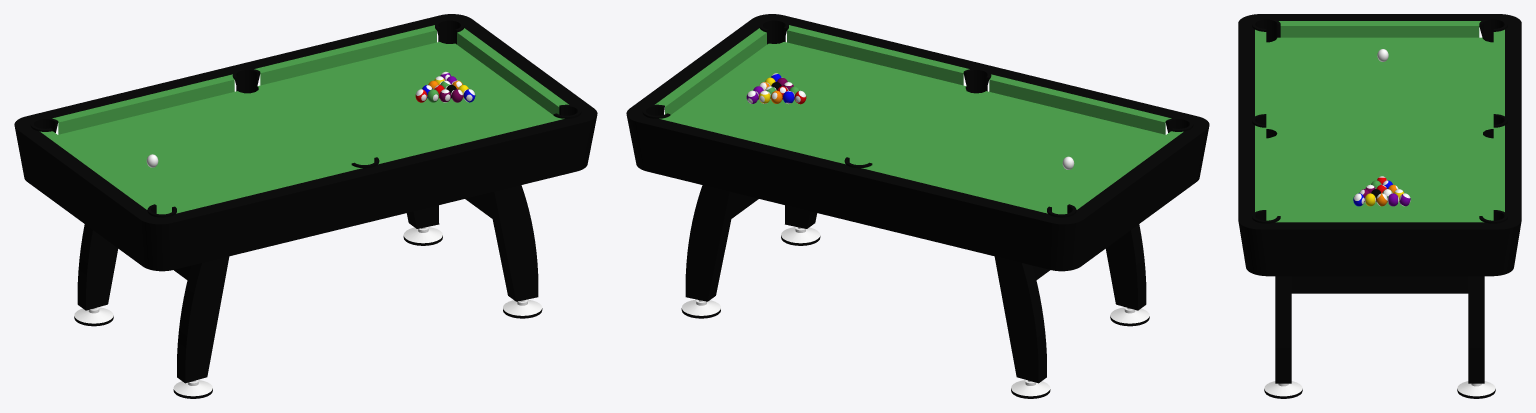
The model's file is pool-table-6ft-medium.glb.
The picture shows the model from 3 angles, left to right: view 1: azimuth 30°, elevation 25°; view 2: azimuth 150°, elevation 25°; view 3: azimuth 270°, elevation 25°; orthographic projection. The views are drawn at different scales.
Visible parts, largest first — view 1: Mesh45 Group1 Model, Mesh3 Group3 Group1 Model, Mesh7 Group5 Group1 Model, Mesh1 Group2 Group1 Model, Mesh18 patte2 Group1 Model, Mesh36 patte4 Group1 Model, Mesh27 patte3 Group1 Model, Mesh9 patte1 Group1 Model, Mesh5 Group4 Group1 Model; view 2: Mesh45 Group1 Model, Mesh1 Group2 Group1 Model, Mesh5 Group4 Group1 Model, Mesh3 Group3 Group1 Model, Mesh36 patte4 Group1 Model, Mesh18 patte2 Group1 Model, Mesh9 patte1 Group1 Model, Mesh27 patte3 Group1 Model, Mesh7 Group5 Group1 Model; view 3: Mesh45 Group1 Model, Mesh46 Group1 Model, Mesh5 Group4 Group1 Model, Mesh7 Group5 Group1 Model, Mesh18 patte2 Group1 Model, Mesh36 patte4 Group1 Model.
Part boxes in pixels (x1,y1,x2,y2): Mesh45 Group1 Model: (14,14,597,271); Mesh3 Group3 Group1 Model: (177,256,229,383); Mesh7 Group5 Group1 Model: (487,185,538,301); Mesh1 Group2 Group1 Model: (77,224,118,310); Mesh18 patte2 Group1 Model: (503,299,542,318); Mesh36 patte4 Group1 Model: (403,227,442,245); Mesh27 patte3 Group1 Model: (74,307,113,326); Mesh9 patte1 Group1 Model: (173,380,212,398); Mesh5 Group4 Group1 Model: (406,205,439,228); Mesh45 Group1 Model: (626,14,1209,271); Mesh1 Group2 Group1 Model: (994,256,1046,383); Mesh5 Group4 Group1 Model: (685,185,736,301); Mesh3 Group3 Group1 Model: (1106,224,1146,310); Mesh36 patte4 Group1 Model: (681,299,720,318); Mesh18 patte2 Group1 Model: (781,227,820,245); Mesh9 patte1 Group1 Model: (1110,307,1149,326); Mesh27 patte3 Group1 Model: (1011,380,1050,398); Mesh7 Group5 Group1 Model: (785,205,817,228); Mesh45 Group1 Model: (1238,14,1521,276); Mesh46 Group1 Model: (1291,276,1468,293); Mesh5 Group4 Group1 Model: (1468,276,1484,383); Mesh7 Group5 Group1 Model: (1275,276,1291,383); Mesh18 patte2 Group1 Model: (1264,381,1302,398); Mesh36 patte4 Group1 Model: (1457,381,1495,398).
Size of the model in its own units: 1.93 by 0.8001 by 1.07.
